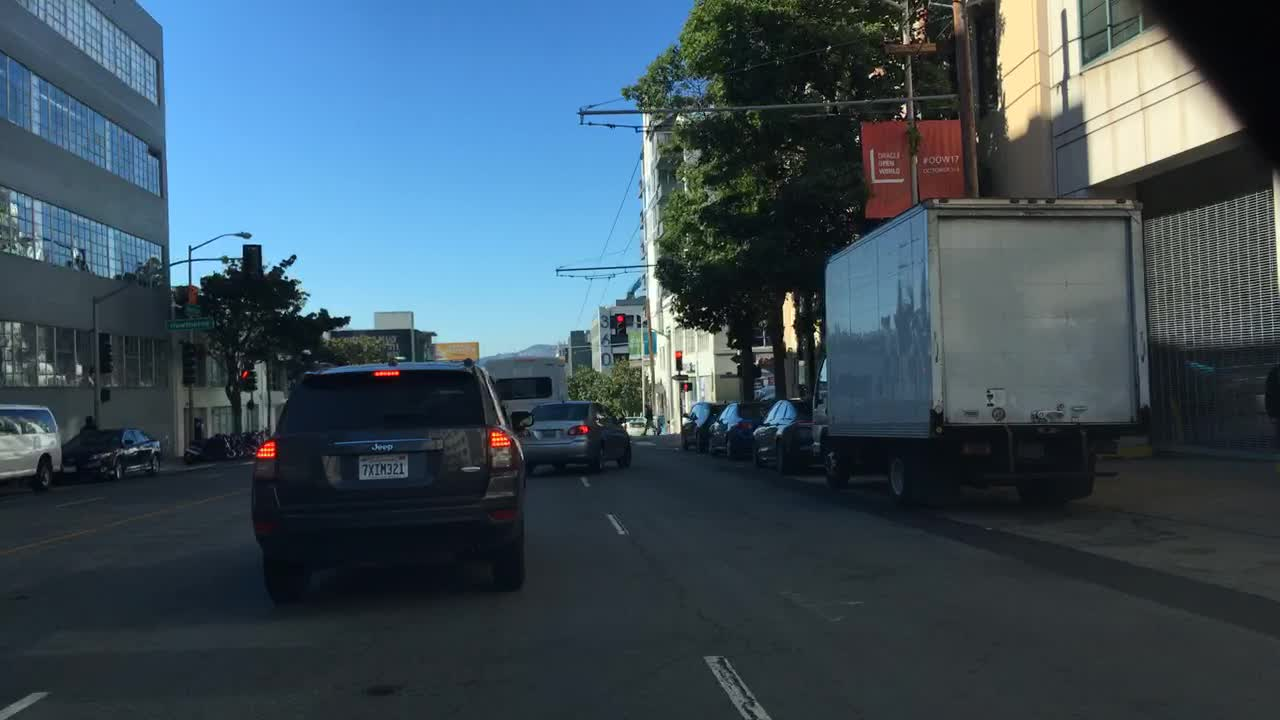car: (246, 355, 531, 606), (517, 400, 633, 473), (743, 393, 824, 473), (0, 400, 63, 492), (478, 350, 566, 410), (60, 430, 163, 479), (705, 394, 769, 459), (675, 399, 722, 449), (508, 403, 530, 431), (625, 416, 652, 435)
motor: (181, 432, 239, 460), (211, 432, 250, 453), (234, 428, 267, 451)
person: (641, 400, 662, 436), (79, 410, 99, 428)
traffic light: (242, 241, 264, 283), (96, 329, 116, 373), (613, 311, 624, 339), (247, 363, 257, 388), (673, 348, 684, 369), (99, 386, 112, 402), (238, 365, 247, 388), (681, 381, 694, 392)
traffic sign: (167, 318, 212, 330), (667, 371, 688, 380)
truck: (805, 194, 1152, 508)
